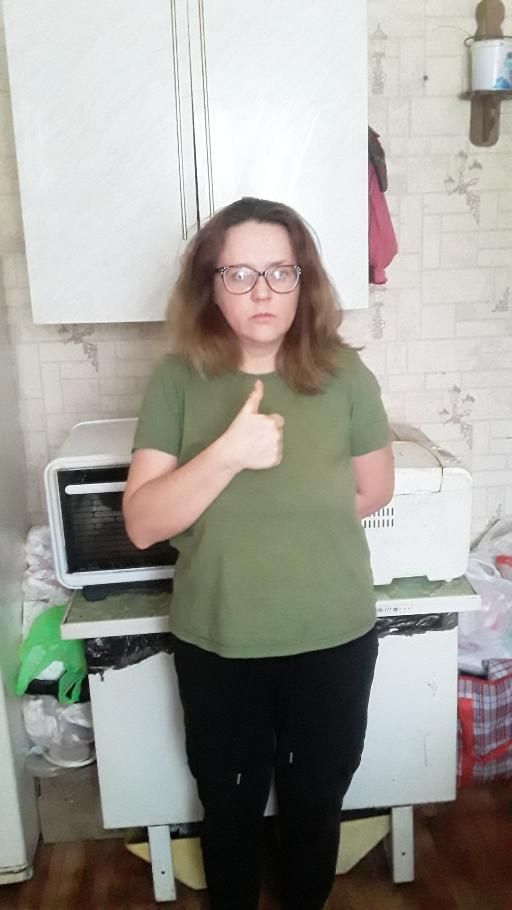like: (224, 376, 289, 474)
